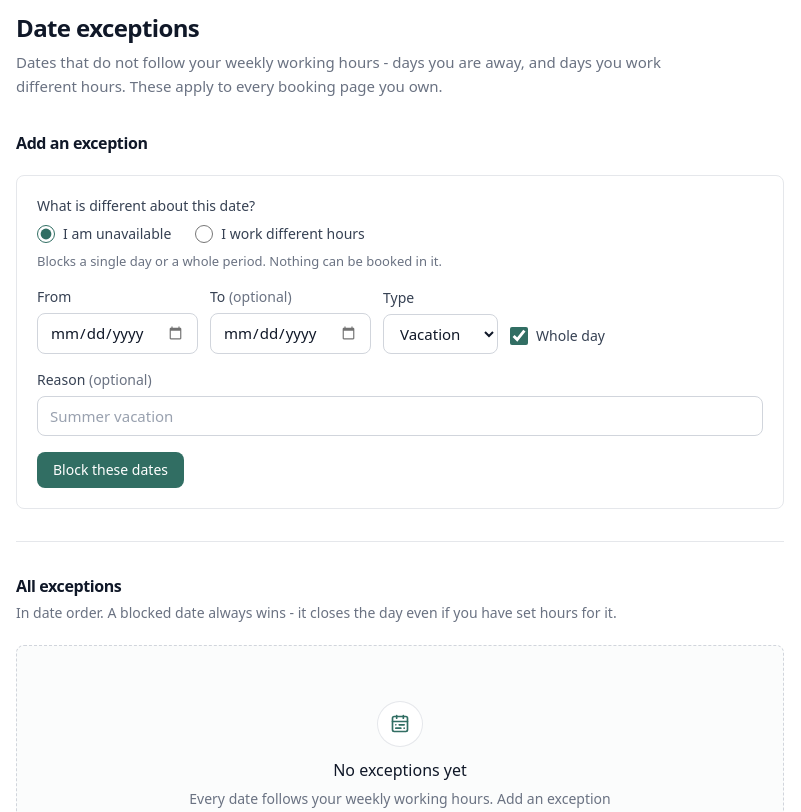
DateExceptionsPage › choosing what to add › swaps the fields, and the submit action, for date-specific hours
Click the radio button labelled "I work different hours".
click(204, 234)  # box [195,225,213,243]
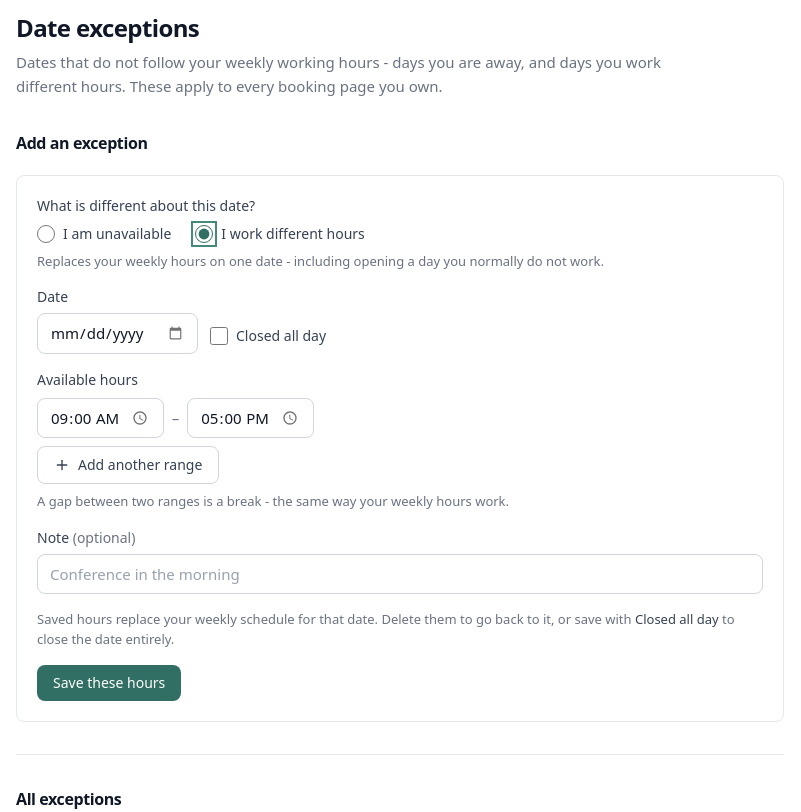
Expected: the time field named "Range 1 start" is shown, [37,398,164,438]
Expected: the label labelled "From" is gone
Expected: the button "Save these hours" is shown, [37,665,181,701]
